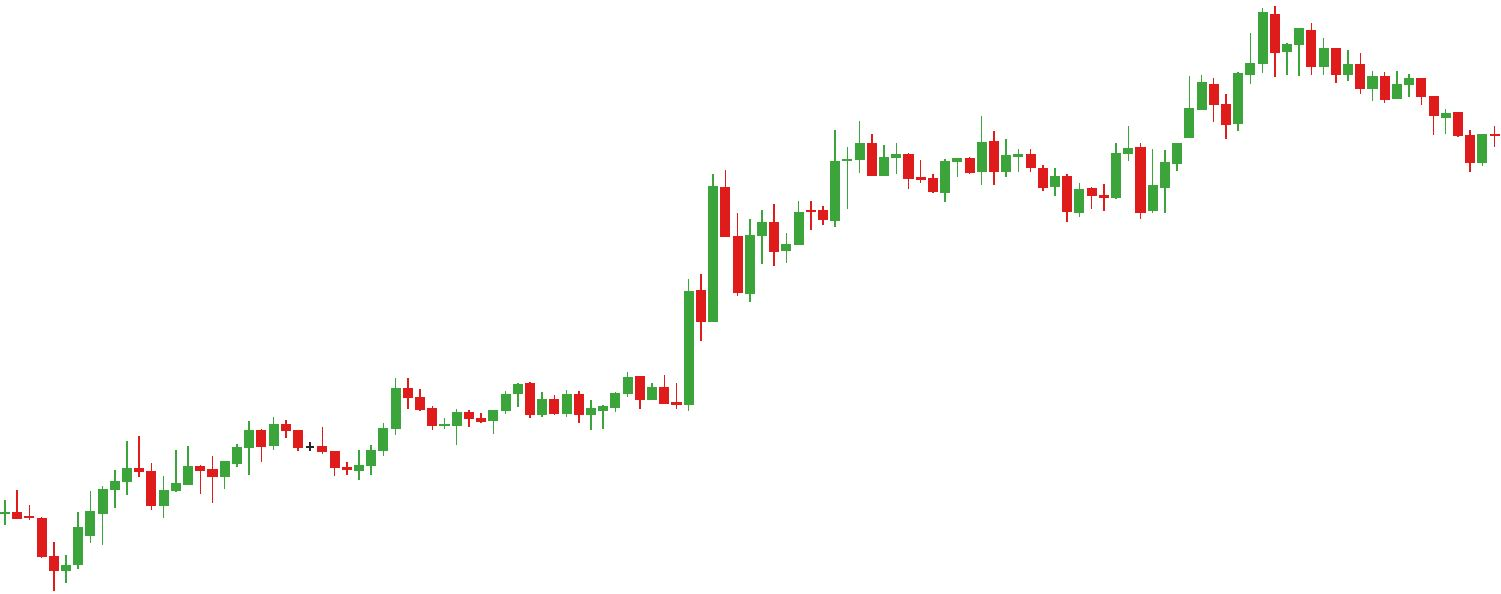buy: (1086, 156, 1160, 219)
sell: (854, 111, 1002, 190)
